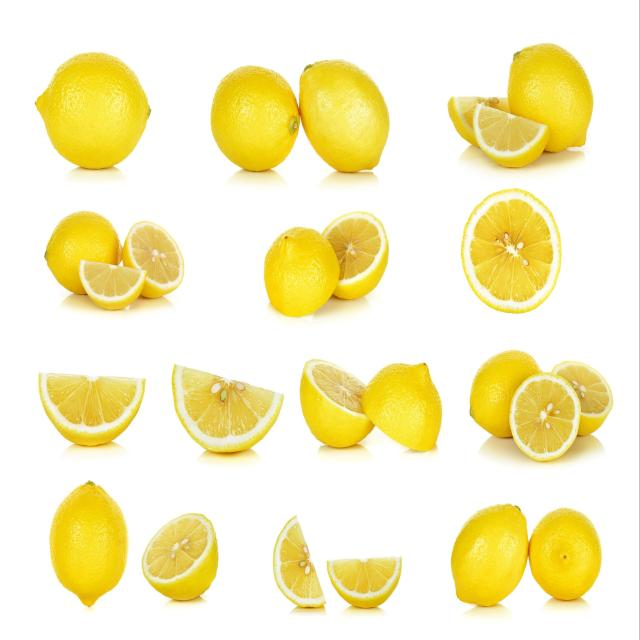lemon: (468, 347, 615, 464), (31, 50, 152, 174), (260, 209, 393, 320), (299, 356, 445, 456)
